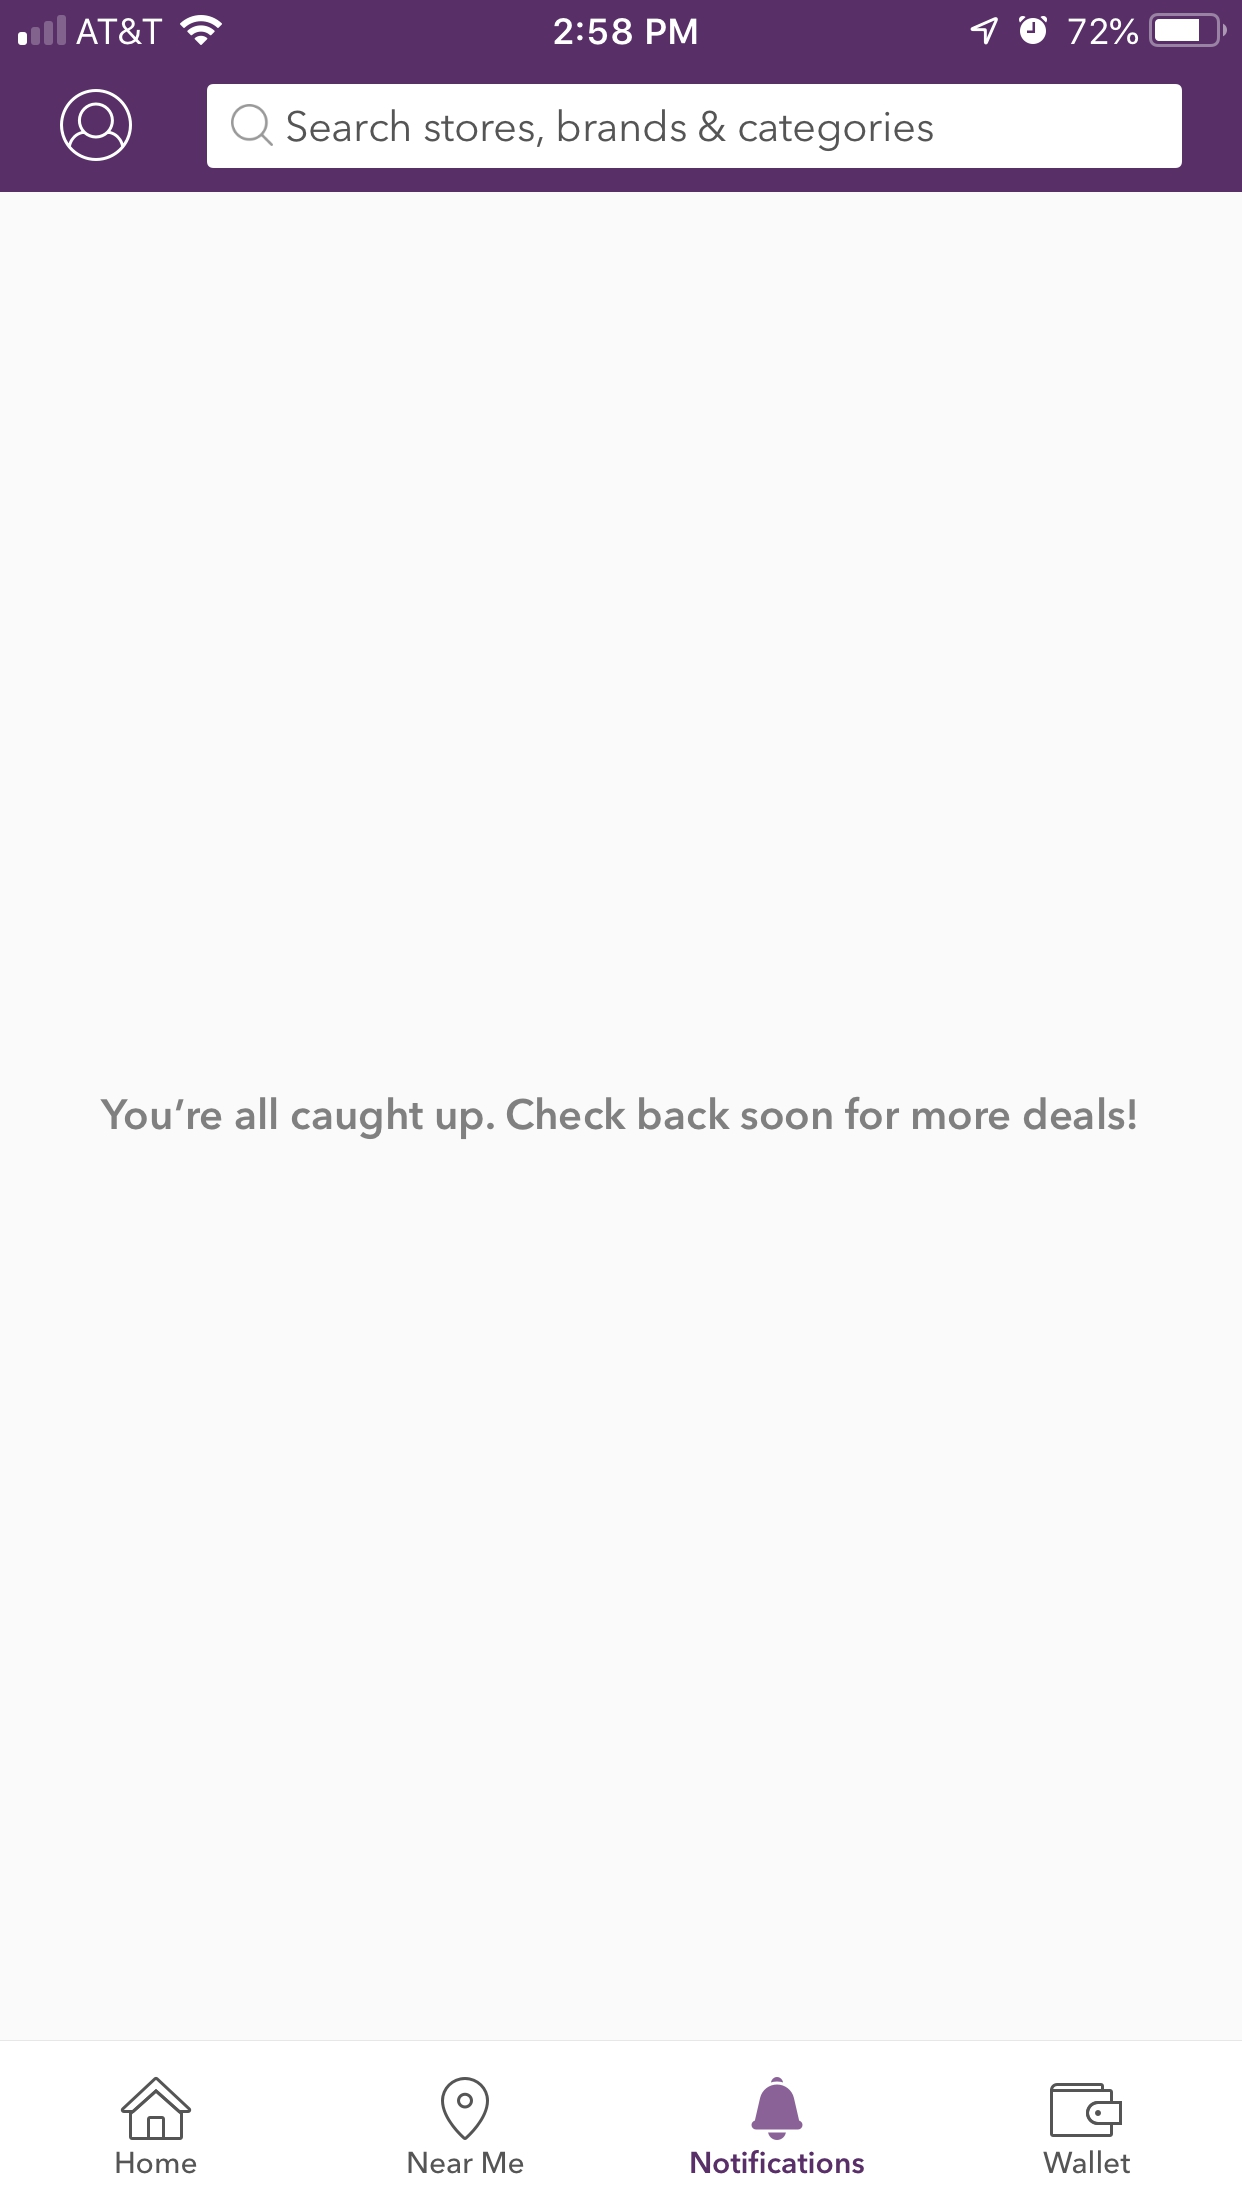EditText: (206, 85, 1181, 168)
Icon: (61, 89, 133, 162), (121, 2078, 193, 2140), (1049, 2082, 1122, 2137), (752, 2078, 804, 2140), (441, 2076, 490, 2140), (232, 105, 274, 147)
Text: (102, 1096, 1136, 1140), (287, 111, 933, 152), (690, 2149, 864, 2175), (409, 2150, 525, 2175), (1043, 2150, 1130, 2175), (117, 2150, 199, 2175)
UpperTaskBar: (2, 2, 1242, 49)
